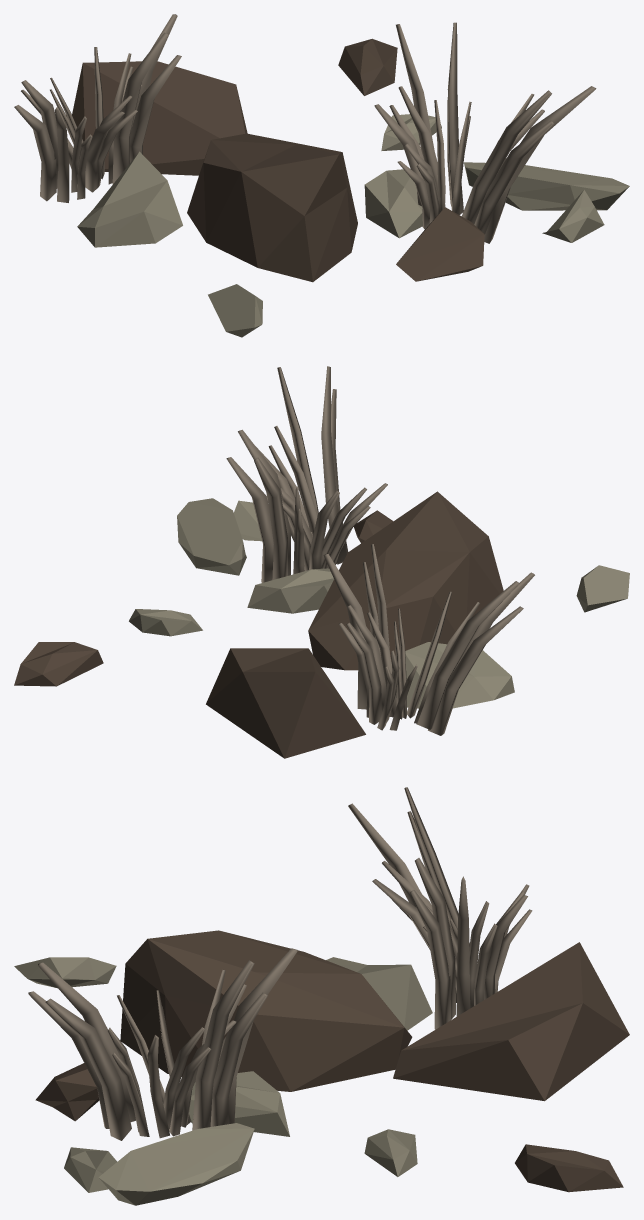
File: Grass 3.glb
3 views of the same model, one above another, from view 1: azimuth 30°, elevation 25°; view 2: azimuth 150°, elevation 25°; view 3: azimuth 270°, elevation 25° (orthographic). The views are drawn at different scales.
Visible parts, largest first — view 1: Grass 3; view 2: Grass 3; view 3: Grass 3.
Part boxes in pixels (x1,y1,x2,y2): Grass 3: (14, 14, 629, 337); Grass 3: (14, 366, 629, 758); Grass 3: (14, 787, 629, 1205).
Size of what is drawn, in the model's own units: 2.37 by 0.8155 by 2.32.
1 material, 1 textured.
